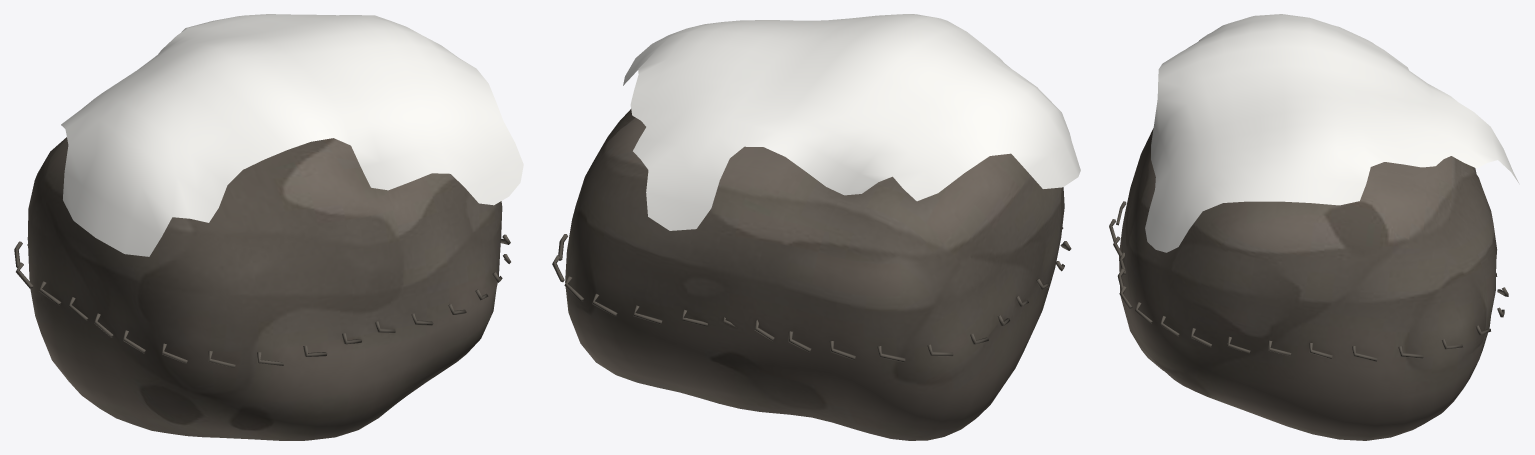
The model's file is rock_a.glb.
3 views of the same model, side by side, from view 1: azimuth 30°, elevation 25°; view 2: azimuth 150°, elevation 25°; view 3: azimuth 270°, elevation 25° (orthographic). The views are drawn at different scales.
Visible parts, largest first — view 1: rock_a_felt, rock_a_snow, rock_a_stitch; view 2: rock_a_felt, rock_a_snow, rock_a_stitch; view 3: rock_a_felt, rock_a_snow, rock_a_stitch.
Part boxes in pixels (box(x1,y1,x2,y2)): rock_a_felt: box(27, 137, 502, 440); rock_a_snow: box(61, 14, 523, 256); rock_a_stitch: box(14, 234, 510, 367); rock_a_felt: box(565, 109, 1064, 440); rock_a_snow: box(623, 14, 1080, 230); rock_a_stitch: box(552, 227, 1071, 362); rock_a_felt: box(1119, 128, 1497, 440); rock_a_snow: box(1145, 14, 1519, 252); rock_a_stitch: box(1109, 201, 1508, 361).
Bounding box in the file's own units: 1.31 × 1.06 × 1.17.
Materials: 3 (1 with a texture image).
